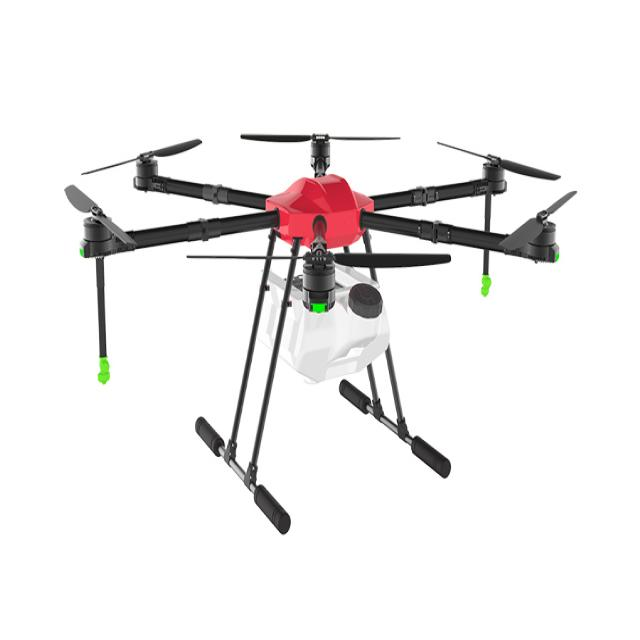drone: (44, 103, 562, 536)
